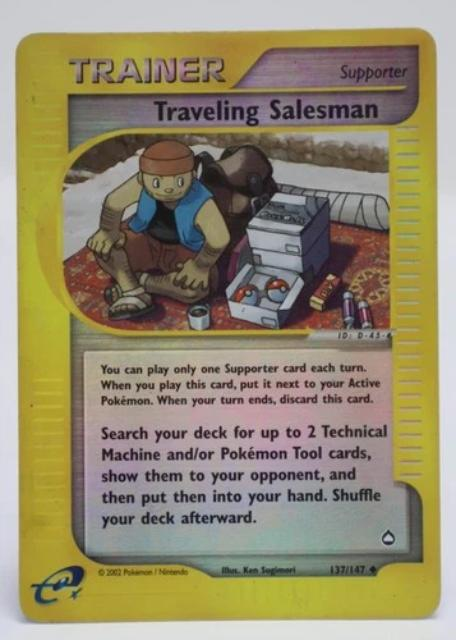Card: (7, 24, 446, 627)
Name: (146, 94, 390, 127)
